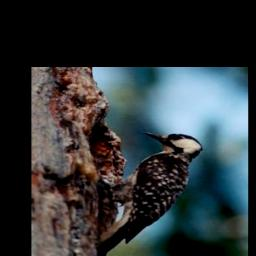Woodpecker: (89, 129, 215, 256)
